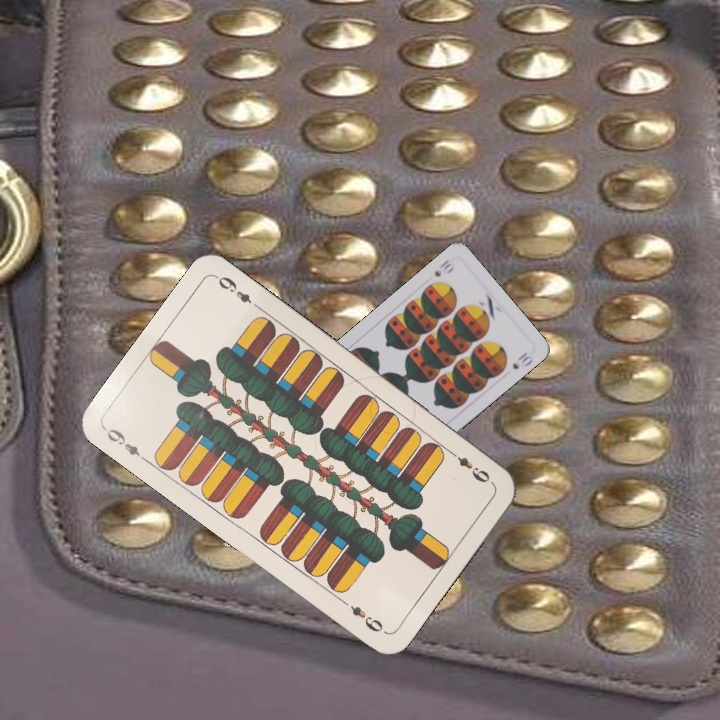E9: (101, 424, 151, 465), (444, 446, 493, 486)
S10: (430, 255, 457, 279)
